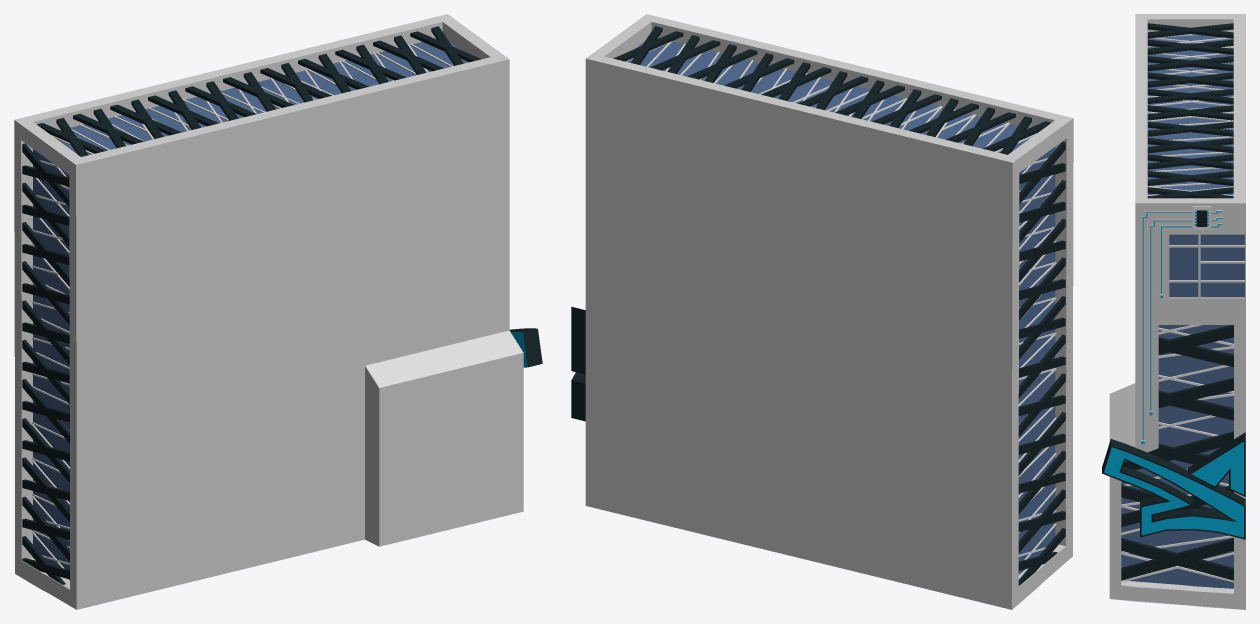
The model's file is Kapsul_Bina.glb.
The picture shows the model from 3 angles, left to right: view 1: azimuth 30°, elevation 25°; view 2: azimuth 150°, elevation 25°; view 3: azimuth 270°, elevation 25°; orthographic projection. The views are drawn at different scales.
Visible parts, largest first — view 1: shadeWhite, shadeGray, shadeBlue; view 2: shadeWhite, shadeGray, shadeBlue; view 3: shadeWhite, shadeGray, shadeBlue, Cube.014.
Boxes of the visible parts, x1,y1,x2,y2 form: shadeWhite: [14, 14, 523, 609]; shadeGray: [22, 26, 542, 584]; shadeBlue: [33, 38, 467, 579]; shadeWhite: [585, 14, 1073, 609]; shadeGray: [571, 26, 1065, 585]; shadeBlue: [627, 38, 1055, 574]; shadeWhite: [1109, 14, 1245, 609]; shadeGray: [1102, 23, 1245, 580]; shadeBlue: [1121, 35, 1244, 588]; Cube.014: [1104, 211, 1243, 537].
Bounding box in the file's own units: 6.2 × 6.01 × 1.93.
